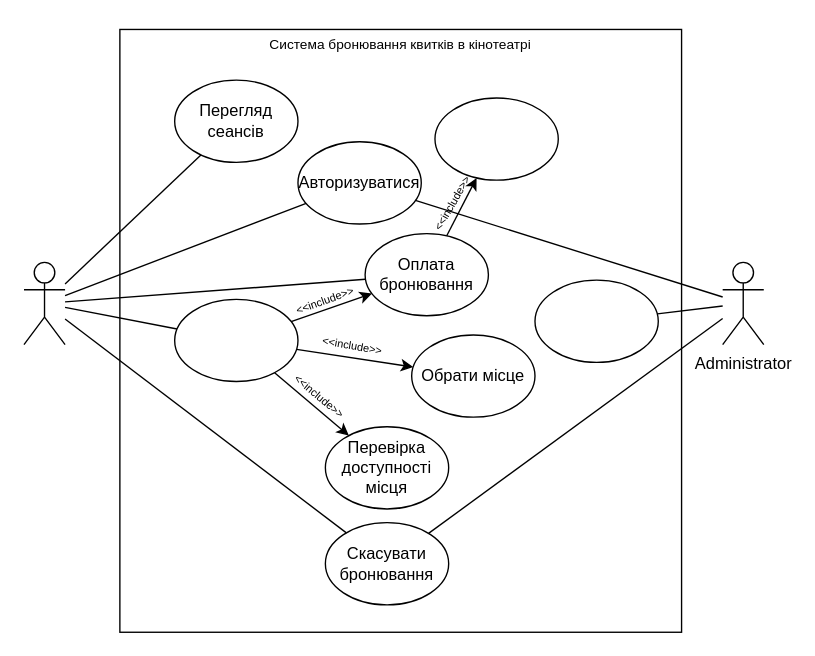
Image size: 815x656. Some labels were removed from this diagram. The box of each missing label's shape, as (x1, y1, x2, y2) in pixels:
Client: (23, 261, 65, 345)
Бронювання квитка: (173, 298, 298, 382)
Керувати сеансом: (534, 279, 658, 362)
Перевірка картки: (434, 97, 558, 180)
